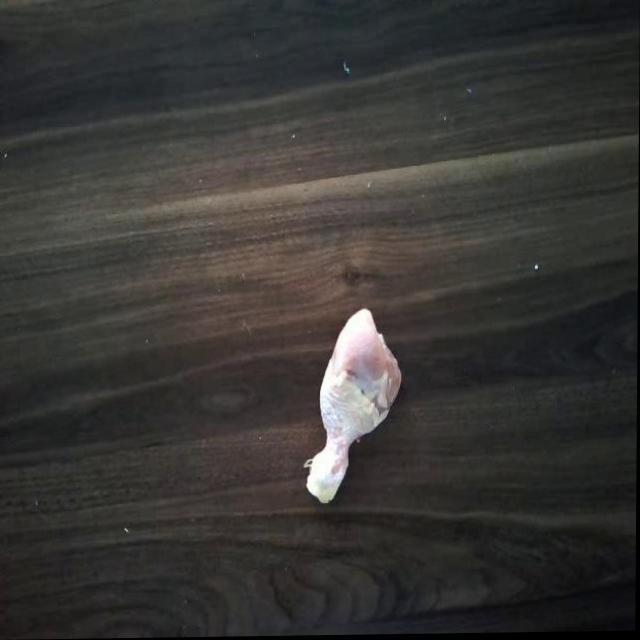leg: (293, 306, 406, 506)
